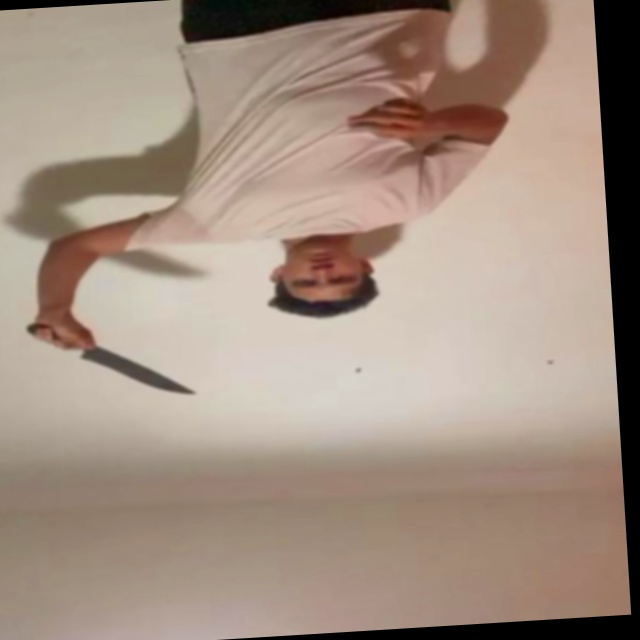Sharp-Object: (79, 346, 199, 401)
